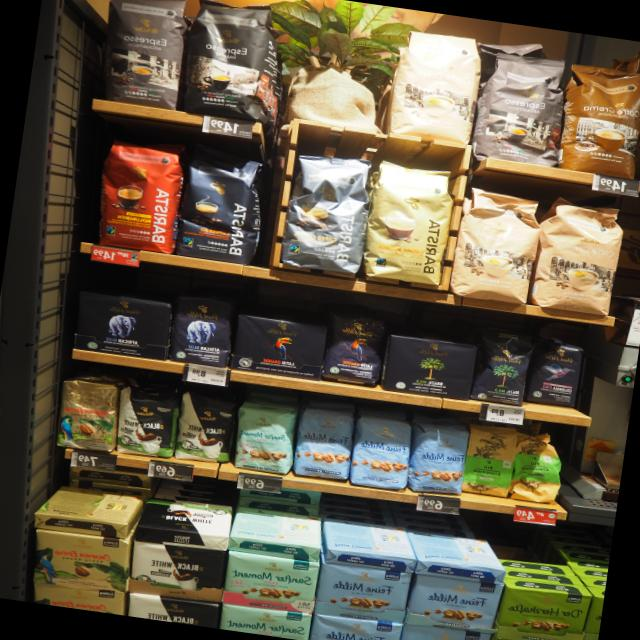AB Bohne: (168, 294, 236, 370)
AB Gemahlen: (71, 289, 176, 362)
Athiopien Bohne: (512, 428, 570, 506)
Athiopien Gemahlen: (458, 422, 520, 501)
BM Bohne: (472, 326, 535, 408)
BM Gemahlen: (376, 330, 481, 403)
BW Bohne: (114, 378, 182, 461), (172, 388, 242, 468)
BW Gemahlen: (124, 535, 230, 609), (135, 497, 233, 542), (124, 592, 227, 630)
Barista CB: (358, 156, 459, 292)
Barista CC: (276, 146, 374, 278)
Barista Espresso: (172, 148, 272, 268)
Barista Kolumbien: (91, 138, 190, 255)
C Fino Bohne: (526, 336, 585, 411)
CC Mild: (382, 25, 488, 148), (445, 182, 545, 308), (529, 196, 628, 320)
CC Vollmundig 36 Pads: (556, 60, 640, 182)
Colombia BB Bohne: (54, 369, 124, 456)
Colombia BB Gemahlen: (25, 526, 135, 596), (34, 487, 145, 528)
Espresso Aromatisch: (466, 47, 574, 174), (91, 0, 198, 113)
Espresso Kraftig: (178, 0, 292, 125)
FM Bohne: (347, 414, 415, 494), (406, 417, 469, 499), (292, 406, 358, 484)
FM Gemahlen: (402, 568, 507, 636), (313, 558, 414, 626), (404, 528, 505, 573), (324, 517, 418, 563), (309, 610, 406, 640), (399, 617, 496, 640)
Herzhatfe Mundig: (493, 572, 593, 640)
LG Bohne: (322, 310, 388, 389)
LG Gemahlen: (228, 311, 330, 381)
SM Bohne: (230, 396, 300, 478)
SM Gemahlen: (220, 548, 324, 618), (227, 508, 321, 550), (219, 600, 316, 640)
